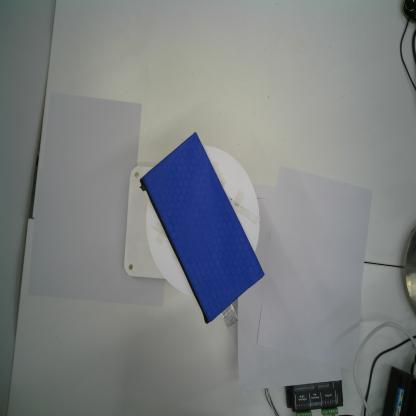Stationery: (140, 132, 265, 324)
